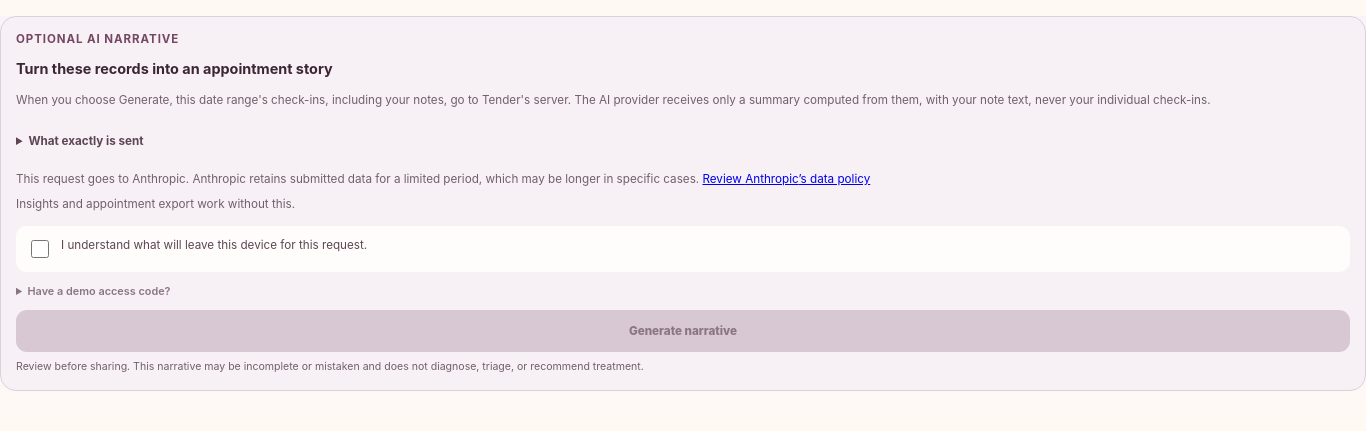
it: AI narrative consent › shows a gate the server returns instead of a narrative
Click the checkbox at (40, 249), box [31, 240, 49, 258]
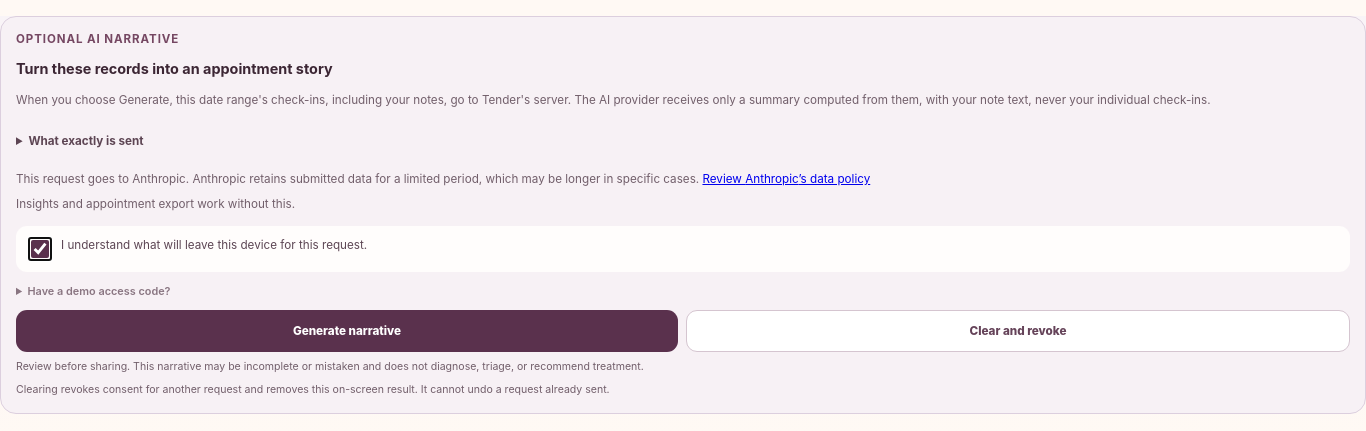
Click the button "Generate narrative" at (347, 331), box [16, 310, 678, 352]
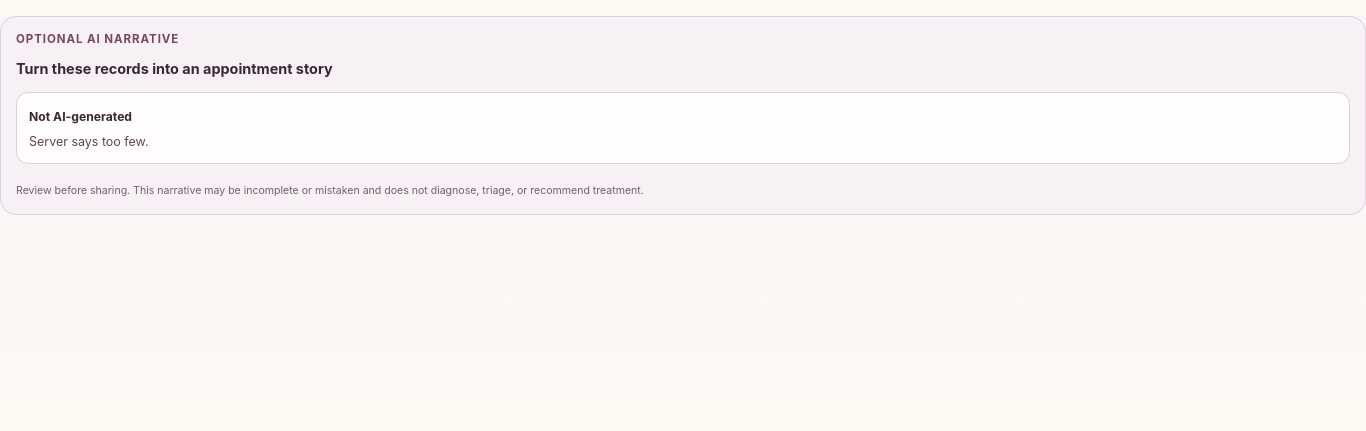
Check: the text "Server says too few." is shown, box [29, 134, 148, 149]
